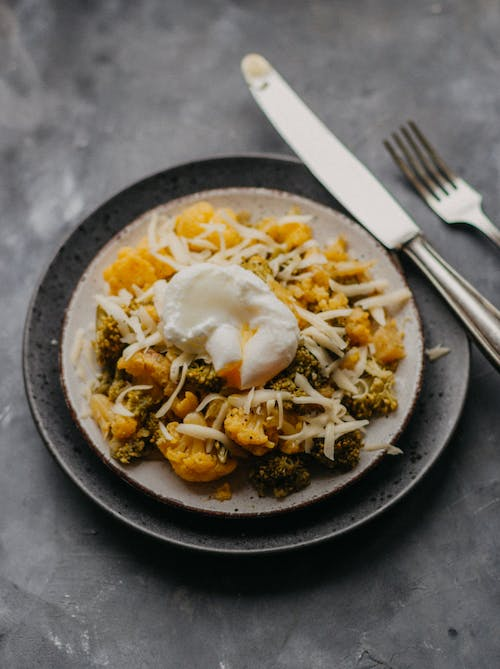knife: (236, 48, 500, 376)
